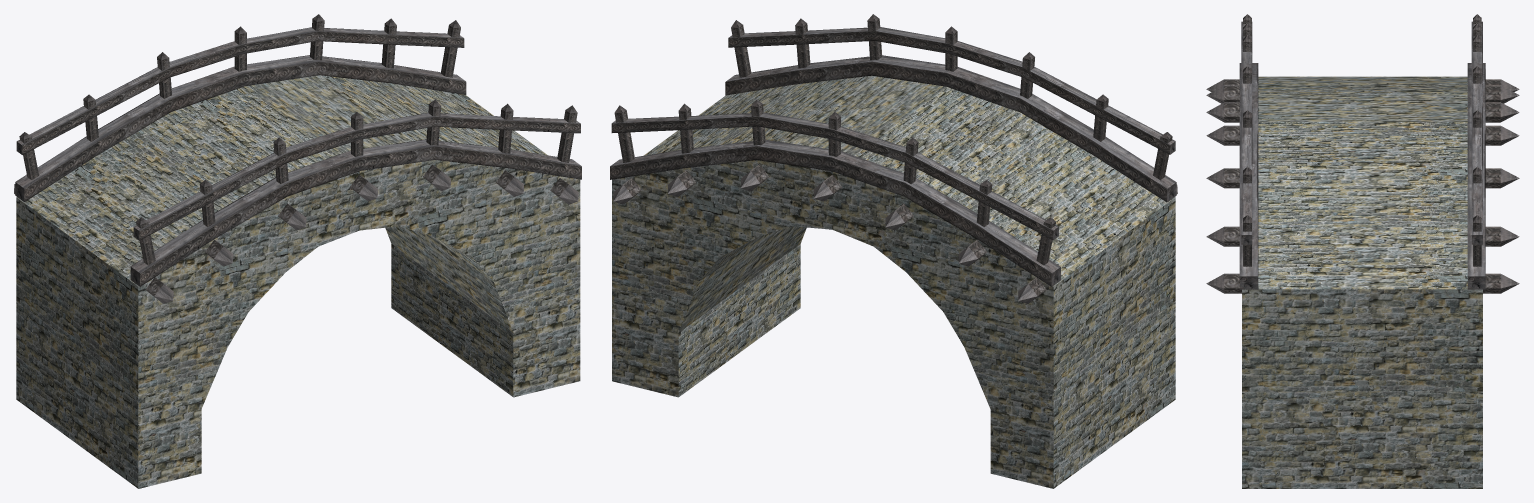
File: v3_bridge.dae
The picture shows the model from 3 angles, left to right: view 1: azimuth 30°, elevation 25°; view 2: azimuth 150°, elevation 25°; view 3: azimuth 270°, elevation 25°; orthographic projection.
Visible parts, largest first — view 1: bricks_old08, WoodPlanks_ornaments; view 2: bricks_old08, WoodPlanks_ornaments; view 3: bricks_old08, WoodPlanks_ornaments.
Boxes of the visible parts, <box> form: bricks_old08: <box>16,75,580,488</box>; WoodPlanks_ornaments: <box>14,14,581,303</box>; bricks_old08: <box>612,75,1175,488</box>; WoodPlanks_ornaments: <box>610,14,1177,303</box>; bricks_old08: <box>1242,76,1482,488</box>; WoodPlanks_ornaments: <box>1206,14,1519,293</box>.
Bounding box in the file's own units: 5.86 × 4.07 × 3.65.
